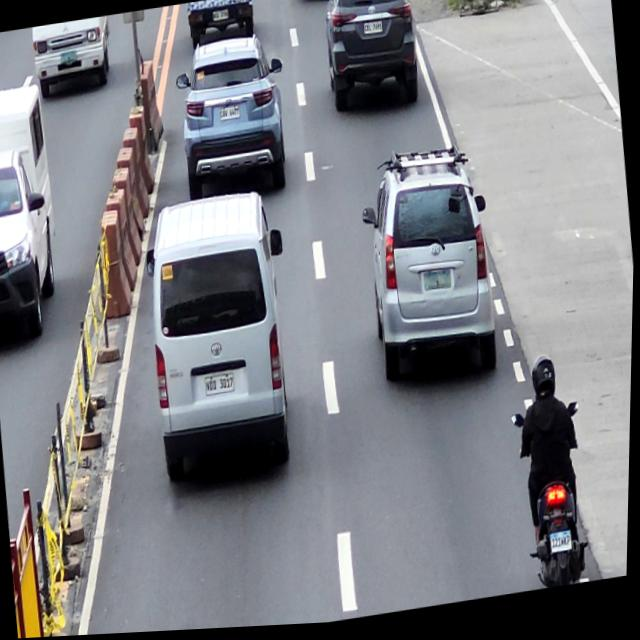Car: (136, 185, 309, 492), (354, 142, 506, 395), (170, 30, 297, 205), (313, 0, 424, 123)
License-Plate: (205, 375, 238, 398), (423, 274, 454, 296), (551, 535, 575, 560), (219, 108, 241, 123), (363, 24, 383, 40), (211, 12, 230, 23)
Motorcycle: (509, 401, 600, 597)
